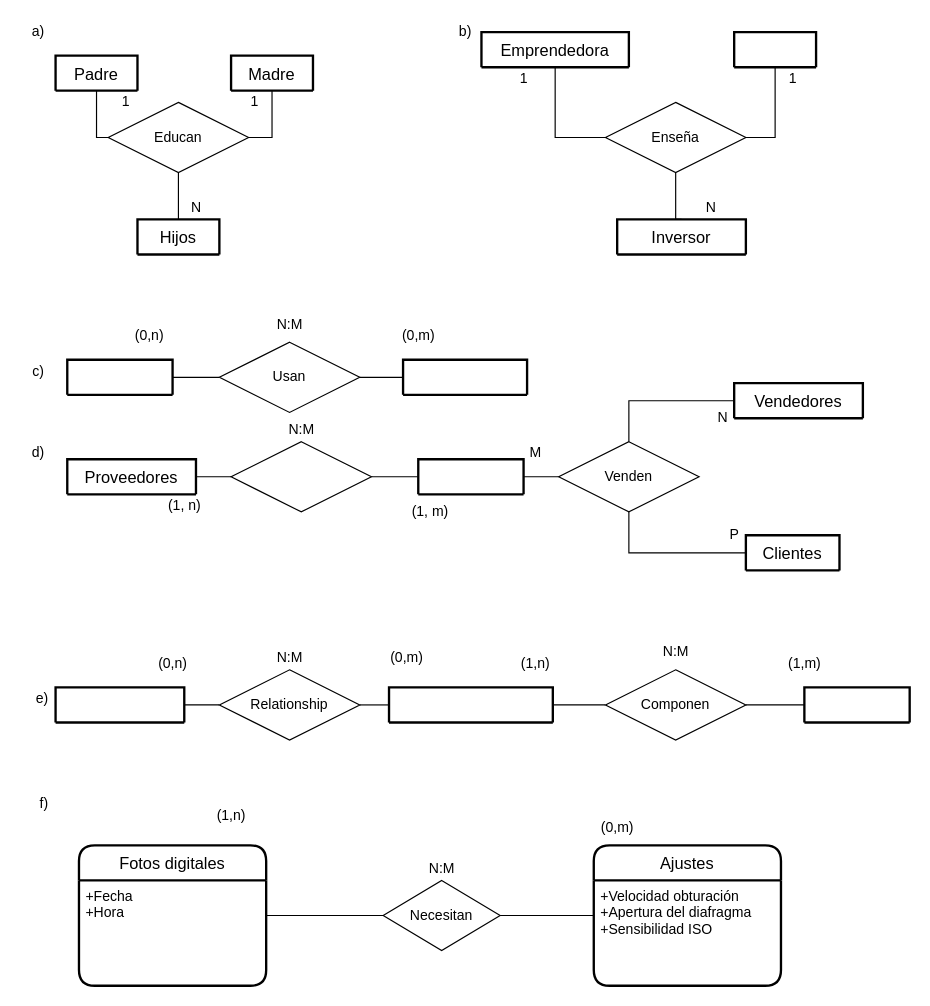
Image size: 930x1006. Some labels were removed from this diagram. Here are the shapes that lost their labels. From the top down, the centre of each, then its label:
point (774, 49): Modelo
point (119, 376): Usuarios
point (464, 376): Máquinas
point (300, 476): Suministran
point (470, 476): Productos
point (119, 704): Escaladores
point (470, 704): Vías de escalada
point (856, 704): Sectores
